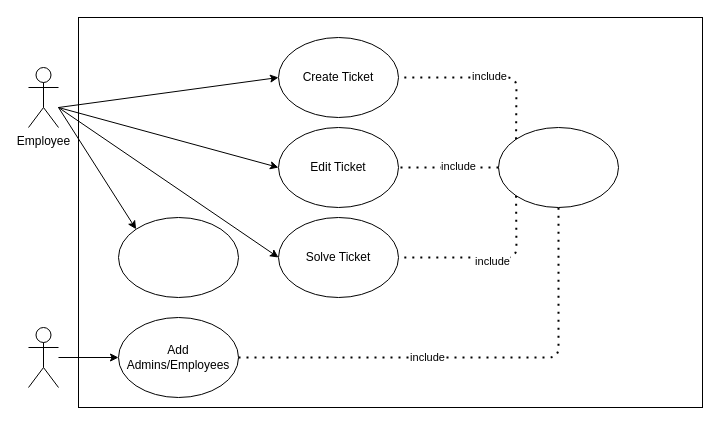
Image size: 720x426. Some labels were removed from this diagram. The shapes that lost their labels are listed below. From the top down, each one's centre as x and y in pixels, then its label:
the point at 558,167: Login/Change Account
the point at 178,257: View Ticket
the point at 43,357: Admin
